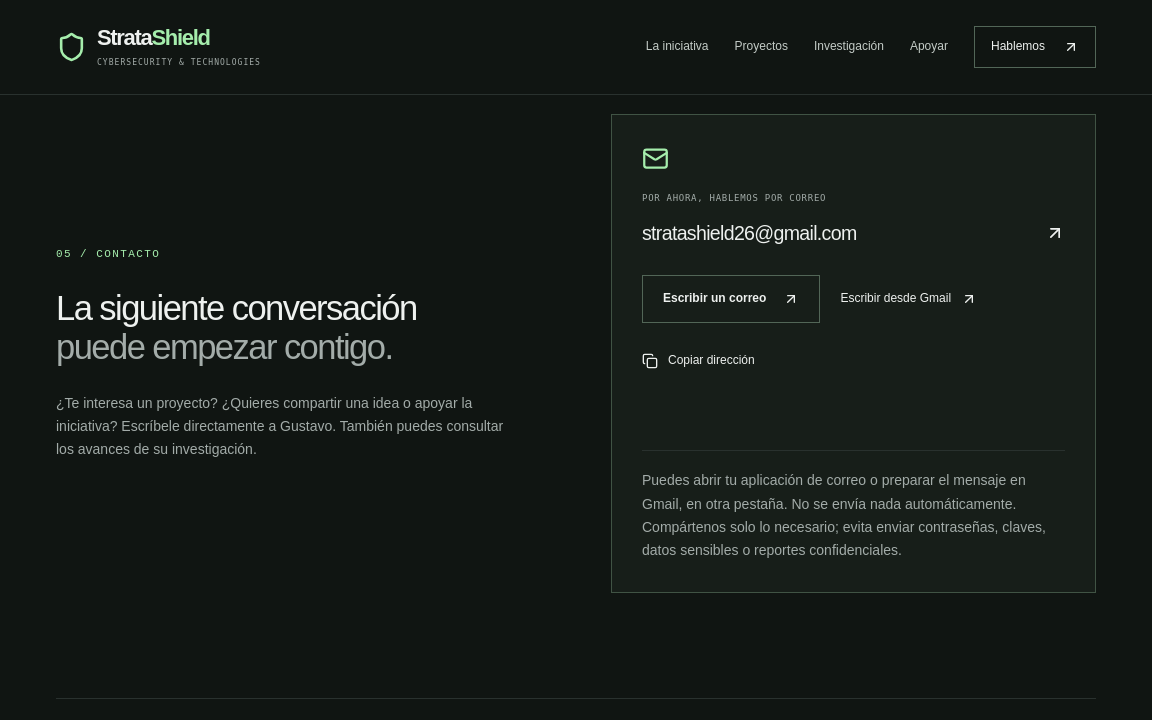
Presentación estática › conserva una alternativa manual si falla el portapapeles
The image size is (1152, 720).
(page scrolled)
Click the button "Copiar dirección".
click(698, 360)  # box [642,343,755,378]
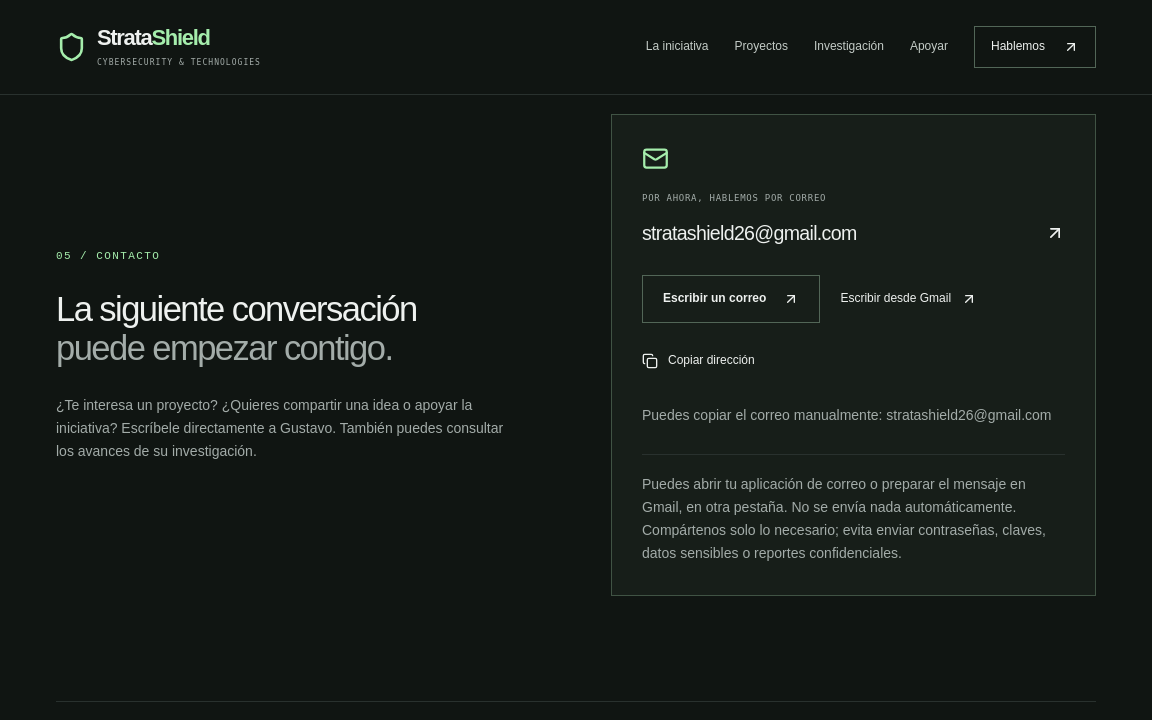
expect the message "Puedes copiar el correo manualmente: stratashield26@gmail.com" is shown: met, box [642,404,1065,428]
